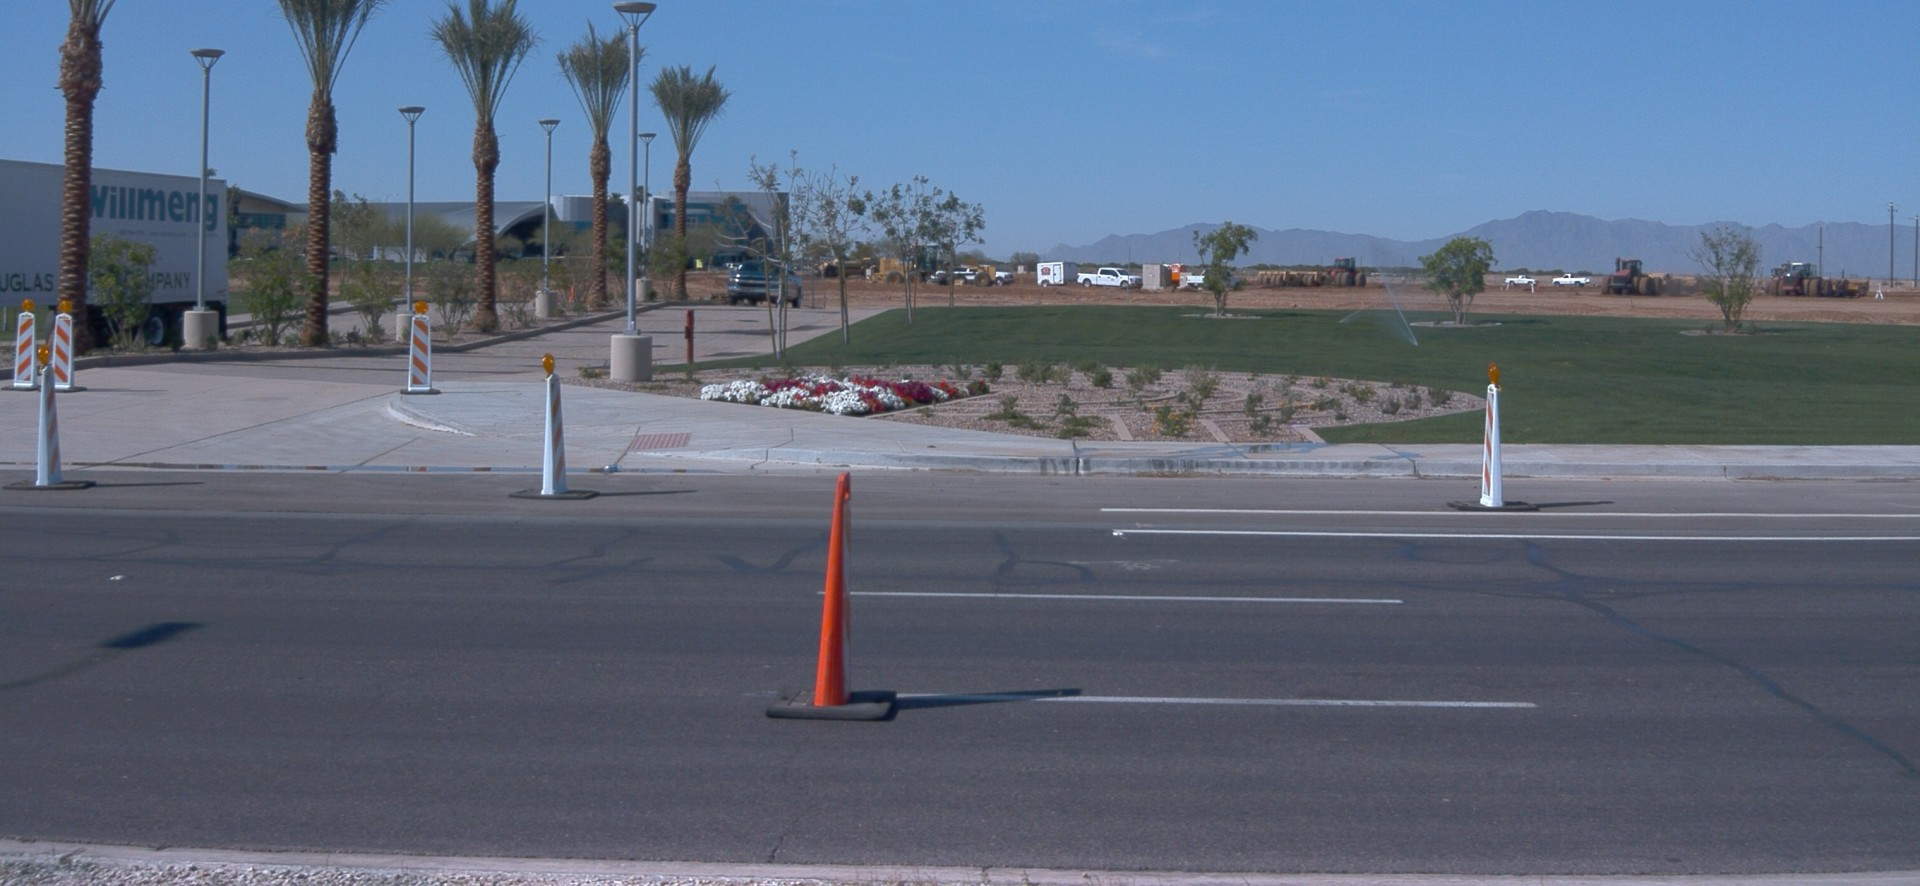TYPE_VEHICLE: (0, 153, 229, 351), (875, 244, 999, 289), (730, 259, 804, 310), (1763, 259, 1837, 299), (1600, 256, 1665, 301), (1076, 268, 1145, 291), (952, 263, 1013, 288), (1317, 257, 1366, 288), (819, 255, 879, 278), (1035, 260, 1080, 287), (1188, 269, 1245, 290), (1255, 271, 1319, 287), (1758, 265, 1788, 296), (1553, 273, 1595, 287), (1507, 274, 1541, 287), (909, 261, 932, 274)
